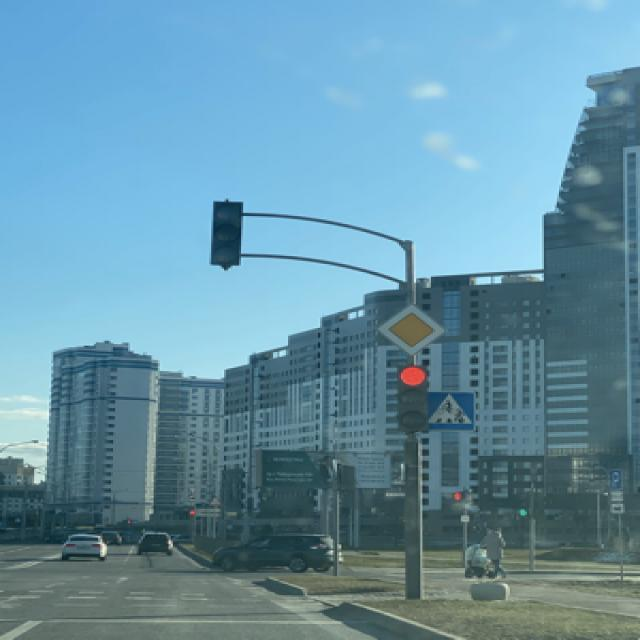crosswalk: (426, 390, 476, 429)
trafficlight: (205, 197, 241, 267), (392, 364, 427, 431)
